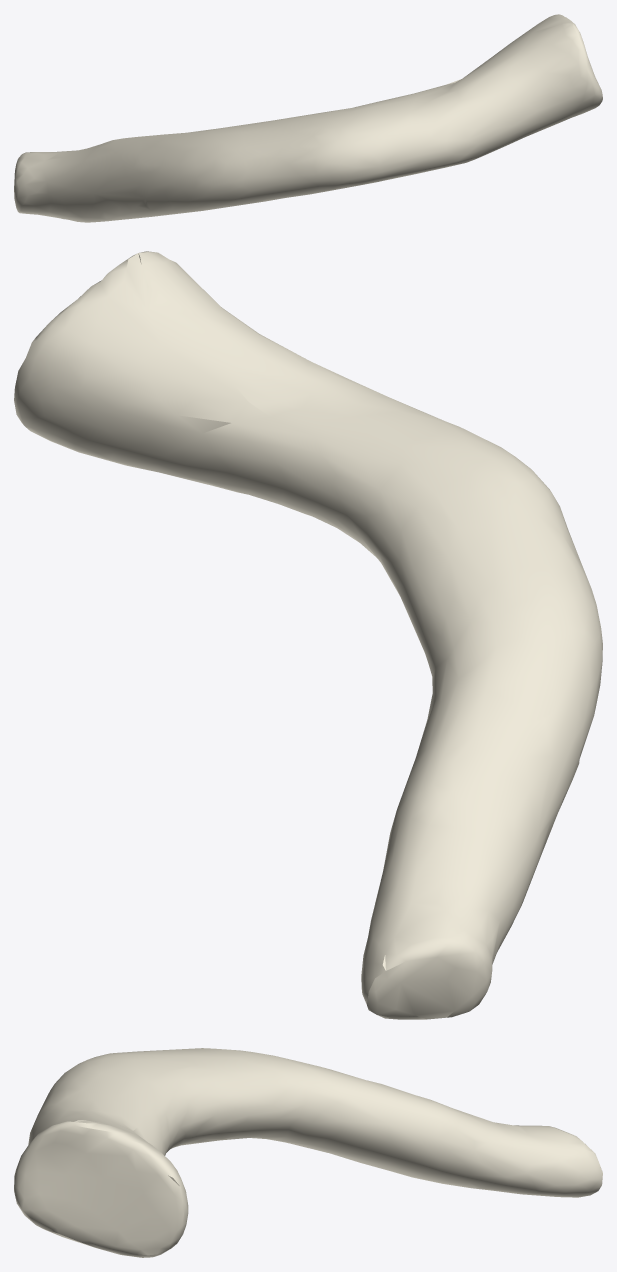
The model's file is fma323758-l_mm1427.glb.
3 renders of one model, top to bottom at view 1: azimuth 30°, elevation 25°; view 2: azimuth 150°, elevation 25°; view 3: azimuth 270°, elevation 25°, orthographic. The views are drawn at different scales.
Parts seen in each view (by area): view 1: FMA323758-L_MM1427; view 2: FMA323758-L_MM1427; view 3: FMA323758-L_MM1427.
Part boxes in pixels (x1,y1,x2,y2): FMA323758-L_MM1427: [14, 14, 602, 222]; FMA323758-L_MM1427: [14, 251, 602, 1019]; FMA323758-L_MM1427: [14, 1048, 602, 1257].
Size of the model in its own units: 0.0139 by 0.00733 by 0.0131.
